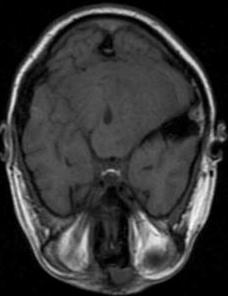Normal_Brain: (1, 1, 228, 296)
